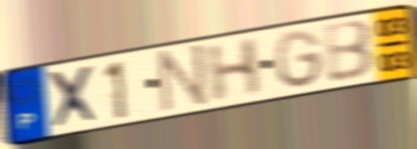1: (102, 58, 131, 121)
B: (321, 17, 377, 85)
G: (272, 28, 326, 91)
H: (205, 34, 263, 106)
N: (158, 41, 210, 115)
X: (44, 63, 103, 132)
